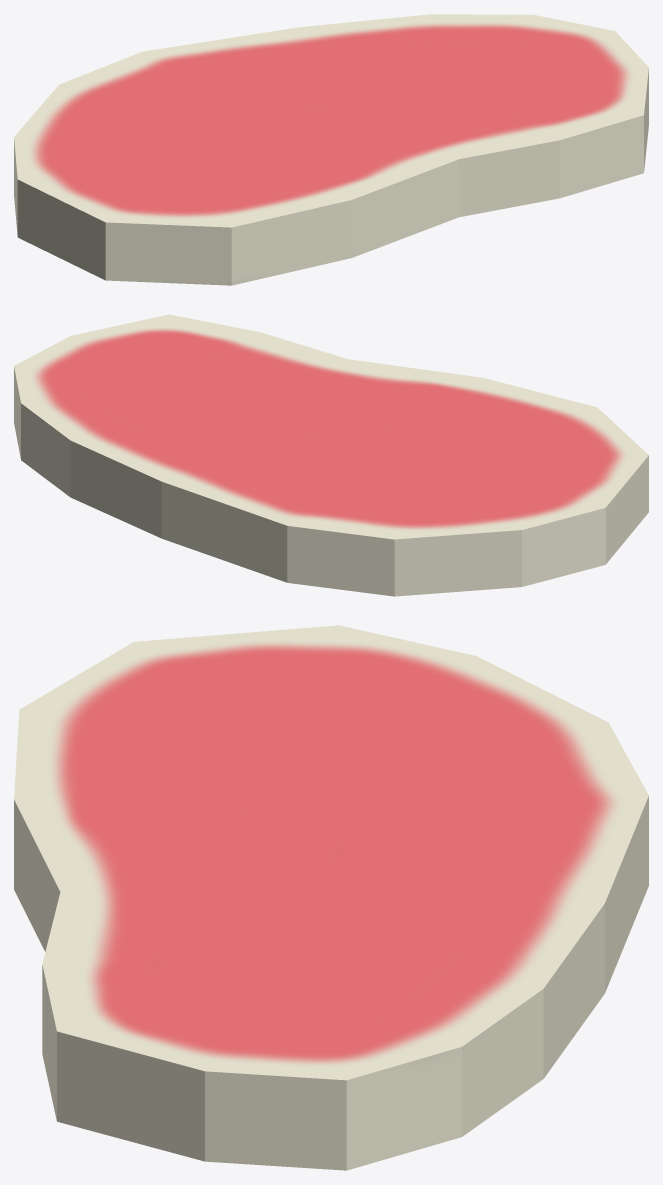
Rendered from Meat.fbx.
The picture shows the model from 3 angles, top to bottom: view 1: azimuth 30°, elevation 25°; view 2: azimuth 150°, elevation 25°; view 3: azimuth 270°, elevation 25°; orthographic projection. The views are drawn at different scales.
Visible parts, largest first — view 1: Plane; view 2: Plane; view 3: Plane.
Boxes of the visible parts, x1=… form: Plane: x1=14, y1=14, x2=648, y2=285; Plane: x1=14, y1=314, x2=648, y2=596; Plane: x1=14, y1=625, x2=648, y2=1170.
Size of the model in its own units: 852 by 78.86 by 503.
1 material, 1 textured.
